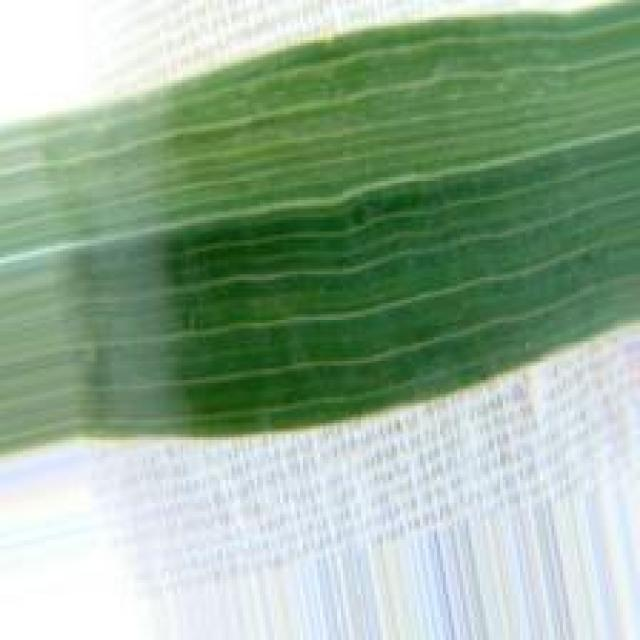Healthy: (0, 0, 640, 458)
